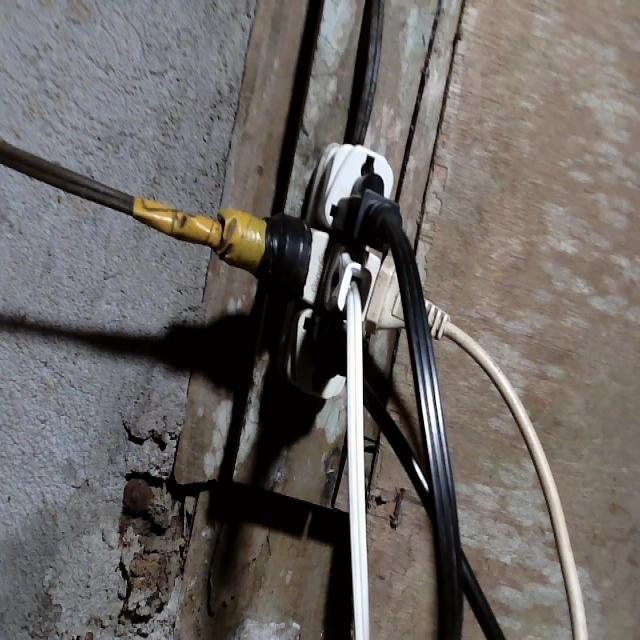-: (202, 142, 466, 402)
